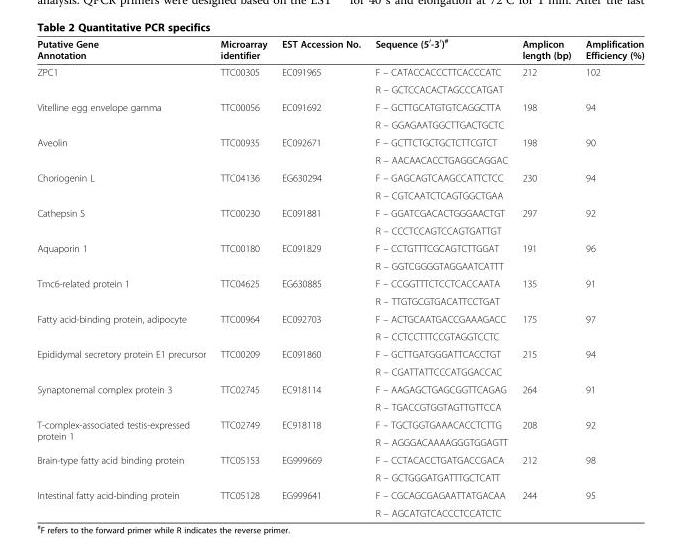table: (36, 36, 643, 518)
table column: (36, 36, 212, 518), (367, 36, 514, 518), (273, 36, 367, 518), (577, 36, 643, 518), (514, 36, 577, 518), (212, 36, 273, 518)
table column header: (36, 36, 643, 63)
table row: (36, 36, 643, 63), (36, 80, 643, 98), (36, 115, 643, 133), (36, 150, 643, 168), (36, 168, 643, 186), (36, 203, 643, 221), (36, 221, 643, 239), (36, 256, 643, 274), (36, 274, 643, 292), (36, 309, 643, 327), (36, 344, 643, 362), (36, 362, 643, 380), (36, 397, 643, 415), (36, 415, 643, 433), (36, 450, 643, 468), (36, 468, 643, 486), (36, 63, 643, 80), (36, 98, 643, 115), (36, 133, 643, 150), (36, 186, 643, 203), (36, 239, 643, 256), (36, 292, 643, 309), (36, 327, 643, 344), (36, 380, 643, 397), (36, 433, 643, 450), (36, 486, 643, 503), (36, 503, 643, 518)
table spanning cell: (36, 203, 212, 239), (36, 344, 212, 380), (36, 450, 212, 486), (36, 63, 212, 98), (36, 98, 212, 133), (36, 133, 212, 168), (36, 168, 212, 203), (36, 239, 212, 274), (36, 274, 212, 309), (36, 309, 212, 344), (36, 380, 212, 415), (36, 415, 212, 450), (36, 486, 212, 518), (273, 203, 367, 239), (273, 344, 367, 380), (273, 450, 367, 486), (273, 63, 367, 98), (273, 98, 367, 133), (273, 133, 367, 168), (273, 168, 367, 203), (273, 239, 367, 274), (273, 274, 367, 309), (273, 309, 367, 344), (273, 380, 367, 415), (273, 415, 367, 450), (273, 486, 367, 518), (577, 203, 643, 239), (577, 344, 643, 380), (577, 450, 643, 486), (577, 63, 643, 98), (577, 98, 643, 133), (577, 133, 643, 168), (577, 168, 643, 203), (577, 239, 643, 274), (577, 274, 643, 309), (577, 309, 643, 344), (577, 380, 643, 415), (577, 415, 643, 450), (514, 203, 577, 239), (514, 344, 577, 380), (514, 450, 577, 486), (514, 63, 577, 98), (514, 98, 577, 133), (514, 133, 577, 168), (514, 168, 577, 203), (514, 239, 577, 274), (514, 274, 577, 309), (514, 309, 577, 344), (514, 380, 577, 415), (514, 415, 577, 450), (212, 203, 273, 239), (212, 344, 273, 380), (212, 450, 273, 486), (212, 63, 273, 98), (212, 98, 273, 133), (212, 133, 273, 168), (212, 168, 273, 203), (212, 239, 273, 274), (212, 274, 273, 309), (212, 309, 273, 344), (212, 380, 273, 415), (212, 415, 273, 450), (577, 486, 643, 518), (514, 486, 577, 518), (212, 486, 273, 518)
